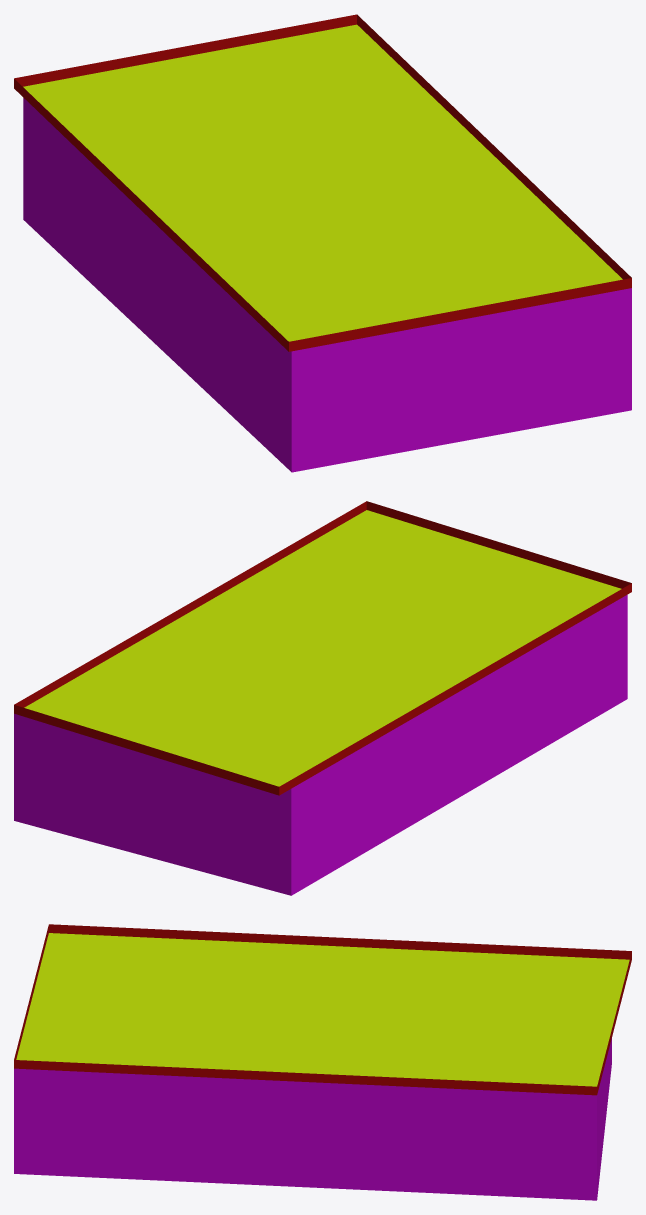
Rendered from bgj_378.glb.
3 renders of one model, top to bottom at view 1: azimuth 30°, elevation 25°; view 2: azimuth 150°, elevation 25°; view 3: azimuth 270°, elevation 25°, orthographic. The views are drawn at different scales.
Visible parts, largest first — view 1: bgj_378; view 2: bgj_378; view 3: bgj_378.
Part boxes in pixels (x1,y1,x2,y2): bgj_378: [14, 14, 631, 472]; bgj_378: [14, 501, 631, 895]; bgj_378: [14, 924, 631, 1200].
Size of the model in its own units: 14.01 by 4.59 by 22.53.
